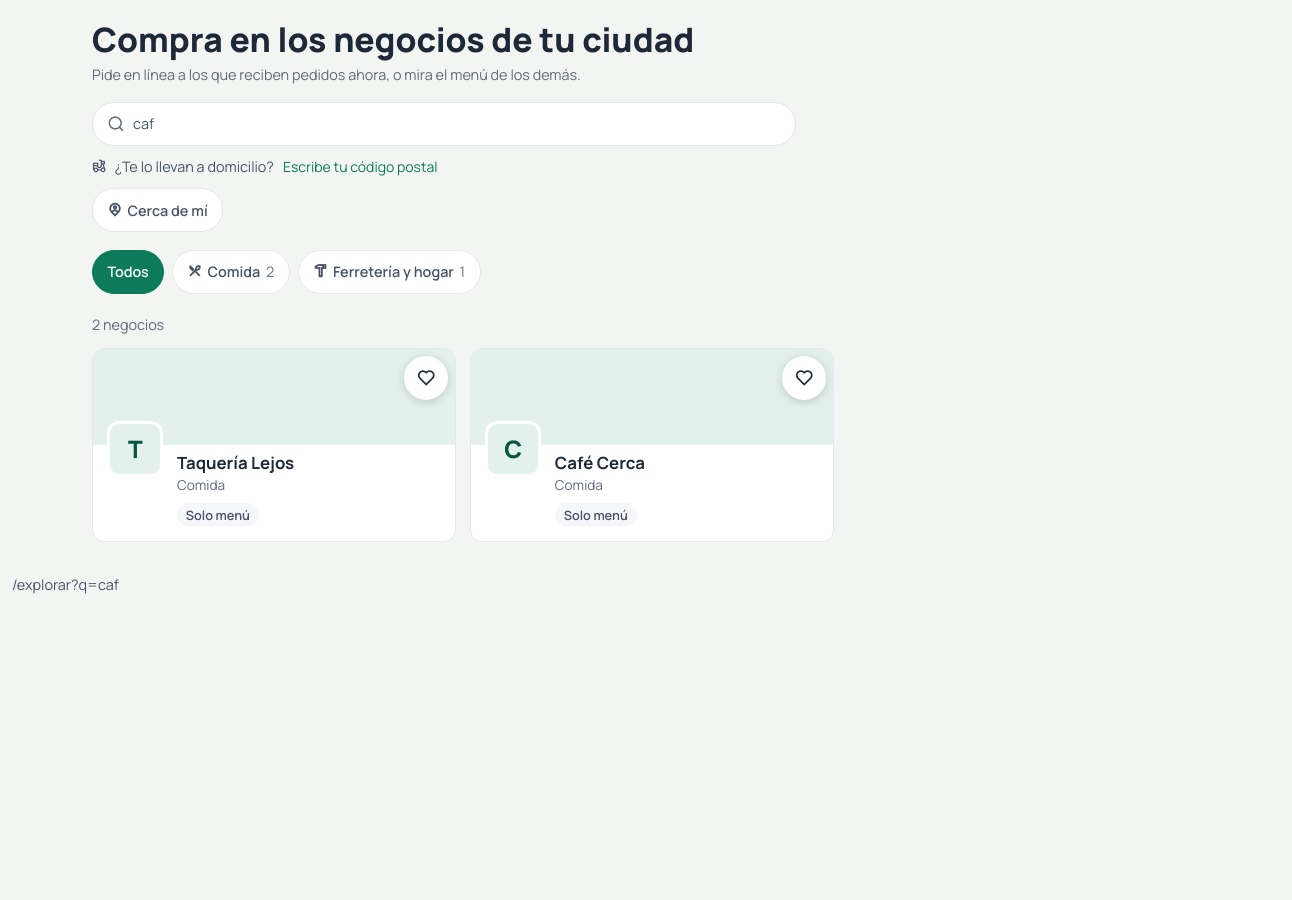
Test case: ExplorePage › shows the nearest first with «Cerca de mí», each card saying how far it is, and keeps it in the address (Fase 24G)
The width and height of the screenshot is (1292, 900).
Step 1. Click the button "Cerca de mí" → {"x": 158, "y": 210}, box [92,188,223,232]
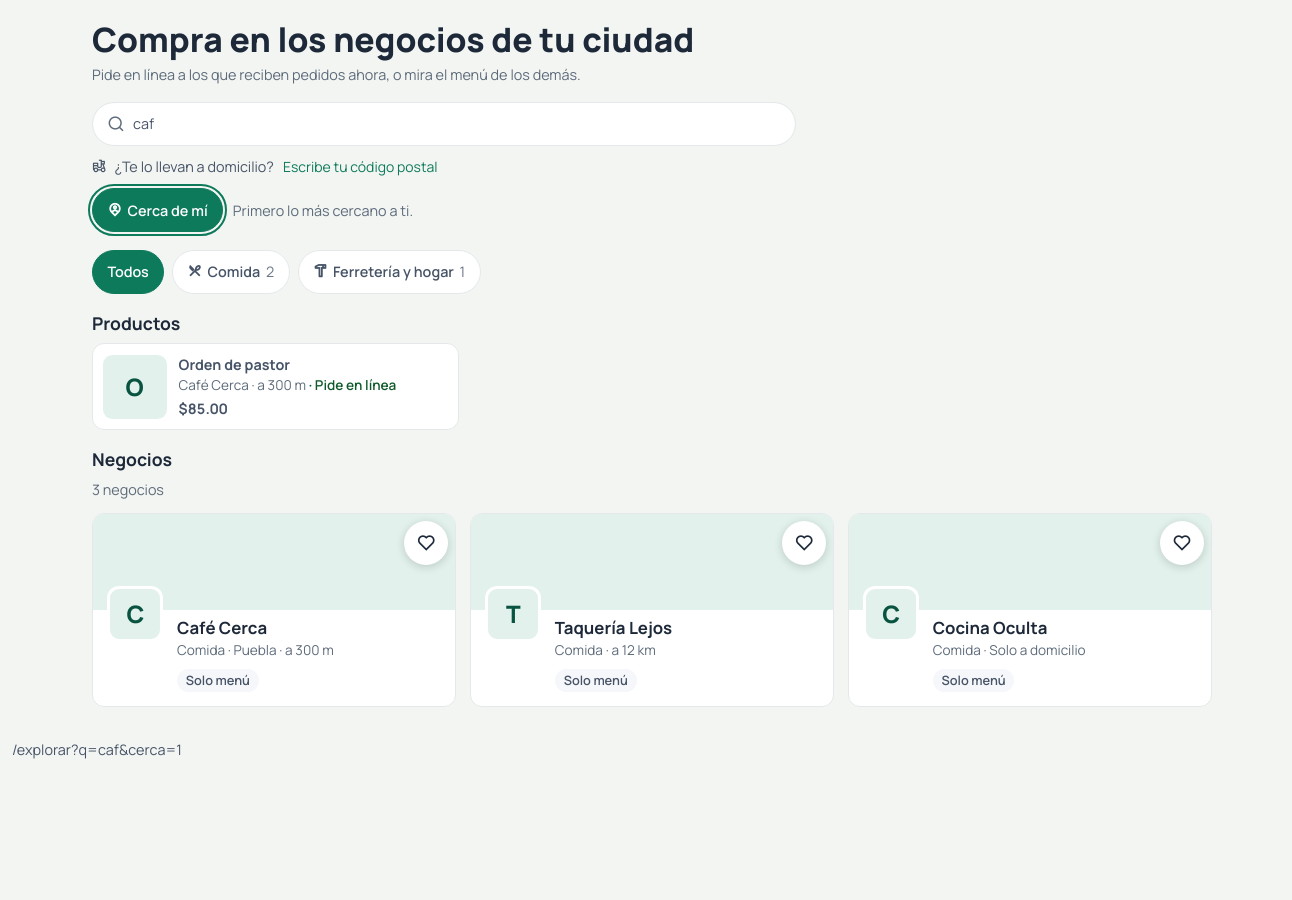
Expected: the link "C Café Cerca Comida · Puebla · a 300 m Solo menú" is shown, [92,513,456,707]
Expected: the link "T Taquería Lejos Comida · a 12 km Solo menú" is shown, [470,513,834,707]
Expected: the link "C Cocina Oculta Comida · Solo a domicilio Solo menú" is shown, [848,513,1212,707]
Typing keeps it on: the new search is near the customer too.
Step 2. Type "e" into the search field → {"x": 444, "y": 124}, box [92,102,796,146]
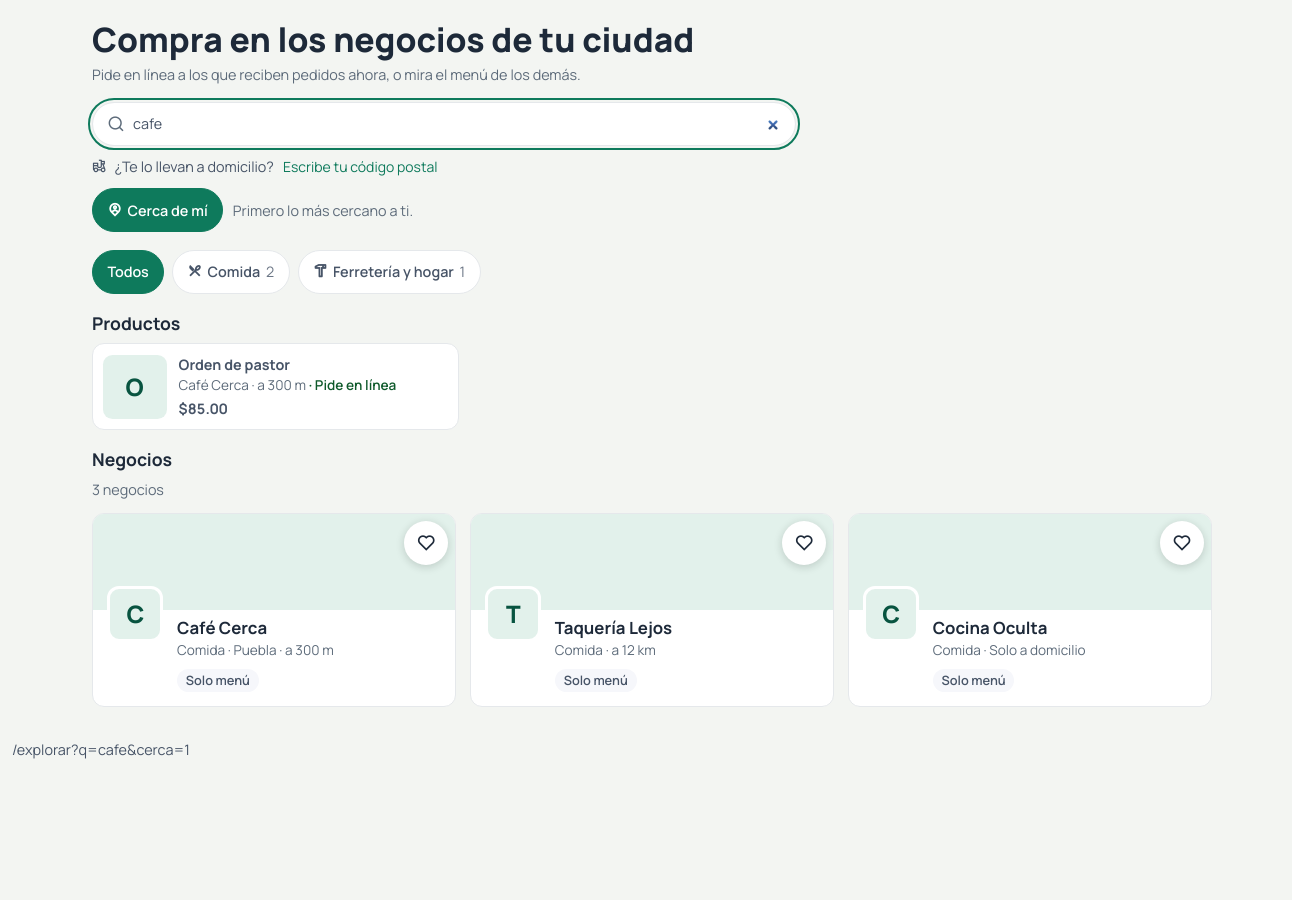
Expected: the text with test id "address" reads "/explorar?q=cafe&cerca=1", [12,740,190,759]
Off, Explorar goes back to its own order, without distances, and the address forgets it.
Step 3. Click the button "Cerca de mí" → {"x": 158, "y": 210}, box [92,188,223,232]
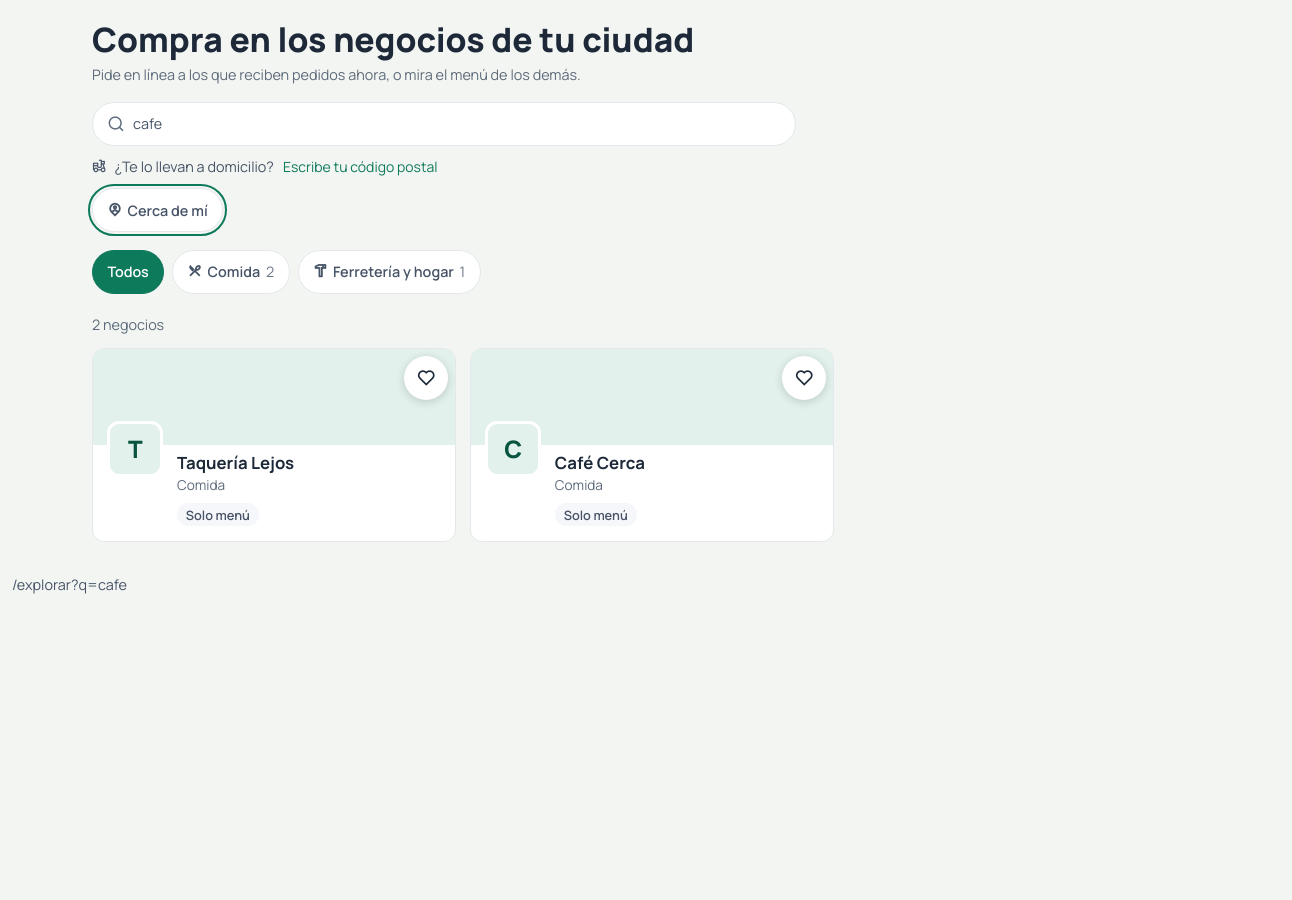
Expected: the text with test id "address" reads "/explorar?q=cafe", [12,575,127,594]
Expected: the link "Café Cerca · a 300 m· Pide en línea" is gone
